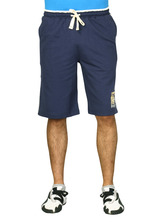clothoes: (30, 10, 128, 120)
shoes: (90, 185, 133, 216), (37, 183, 75, 218)
